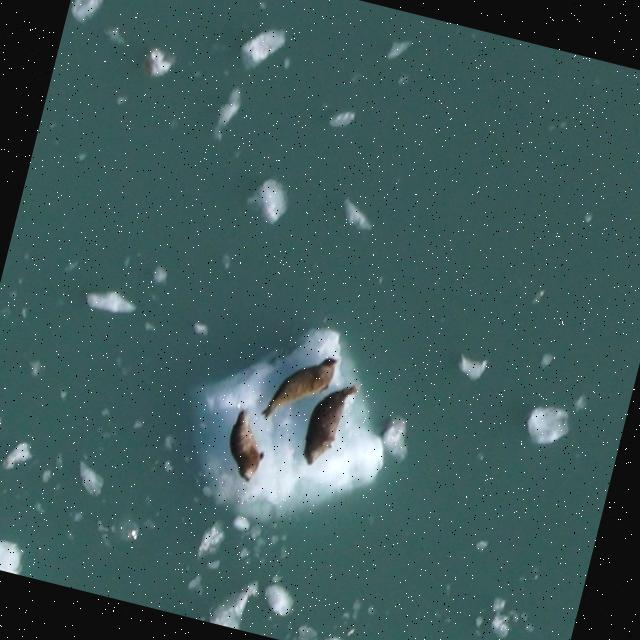seal: (257, 340, 341, 435), (293, 373, 360, 475), (213, 401, 279, 488)
